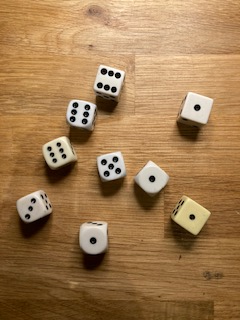five: (96, 151, 128, 182)
one: (170, 195, 211, 236), (176, 92, 213, 128), (133, 160, 170, 196), (79, 221, 110, 255)
six: (93, 63, 127, 104), (41, 135, 78, 171), (64, 98, 98, 133)
three: (15, 190, 53, 223)
